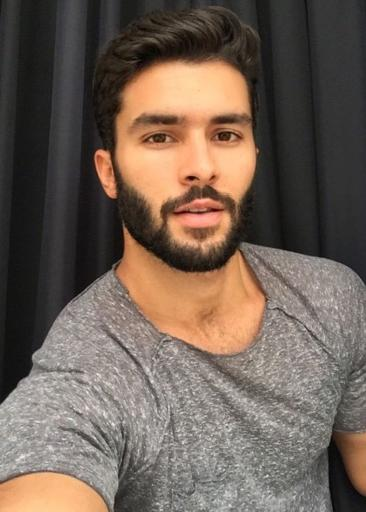left_eye: (210, 129, 244, 144)
left_lip_corner: (216, 202, 232, 220)
right_eye: (141, 130, 180, 144)
right_lip_corner: (168, 205, 183, 221)
